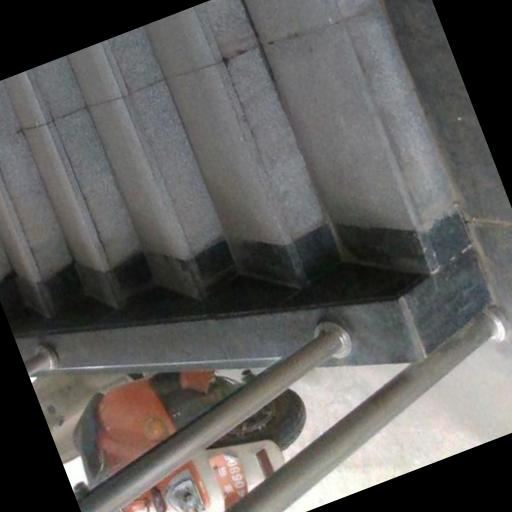stairs: (0, 0, 455, 314)
